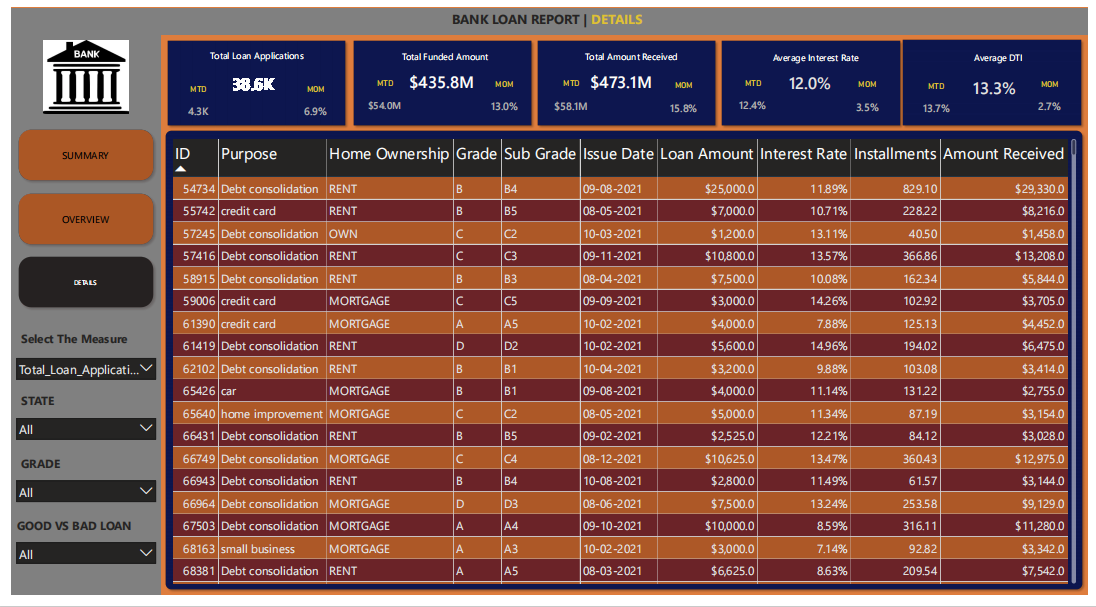

The dashboard page shown, as its layout file describes it:
{"tool":"powerbi","page":{"name":"DETAILS","canvas":[2200,1200],"ordinal":2},"visuals":[{"type":"shape","box":[0,28.6,304.8,1171.4],"z":0},{"type":"shape","box":[0,0,2200,55.2],"z":1000},{"type":"textbox","box":[896,0,458.7,54.7],"z":2000},{"type":"slicer","fields":{"Values":["financial_loan.Good vs Bad Loan"]},"box":[0,1083.8,304.8,81.9],"z":3000},{"type":"shape","box":[1814.7,57.9,380,189.7],"z":4000,"group":"g5"},{"type":"shape","box":[310.4,58.6,381,188.6],"z":4000,"group":"g2"},{"type":"shape","box":[691,58.6,380.7,189],"z":4000,"group":"g3"},{"type":"shape","box":[1067.8,58.6,380,189],"z":4000,"group":"g6"},{"type":"shape","box":[1444.5,58.6,380,189],"z":4000,"group":"g4"},{"type":"shape","box":[305.7,244,1891.6,954.6],"z":4000,"group":"g1"},{"type":"textbox","box":[5.7,1038.1,253.3,45.7],"z":4000},{"type":"cardVisual","fields":{"Data":["KPI'S.Total Funded Loan Amount"]},"box":[773.3,108.7,215.6,79.9],"z":5000,"group":"g3"},{"type":"cardVisual","fields":{"Data":["KPI'S.Total Amount Receieved"]},"box":[1139.5,108.7,215.6,81.9],"z":5000,"group":"g6"},{"type":"cardVisual","fields":{"Data":["KPI'S.Average Intrest Rate"]},"box":[1525.6,110.7,215.6,79.9],"z":5000,"group":"g4"},{"type":"cardVisual","fields":{"Data":["KPI'S.Total_Loan_Application"]},"box":[387.1,113,215.6,79.9],"z":5000,"group":"g2"},{"type":"cardVisual","fields":{"Data":["KPI'S.Average DTI"]},"box":[1902.3,122.2,215.4,79],"z":5000,"group":"g5"},{"type":"textbox","box":[15.2,910.5,108.6,47.6],"z":5000},{"type":"textbox","box":[395.5,79,214.7,42.9],"z":6000,"group":"g2"},{"type":"textbox","box":[782.4,80.8,210.5,39.3],"z":6000,"group":"g3"},{"type":"textbox","box":[1161.4,81,214.3,39.7],"z":6000,"group":"g6"},{"type":"textbox","box":[1538.1,82.2,213.3,41.8],"z":6000,"group":"g4"},{"type":"textbox","box":[1912,83.3,213.7,41.8],"z":6000,"group":"g5"},{"type":"textbox","box":[15.2,781,118.1,49.5],"z":6000},{"type":"cardVisual","title":"MTD","fields":{"Data":["KPI'S.MTD Loan Amount"]},"box":[697.5,144.7,133.8,87.8],"z":7000,"group":"g3"},{"type":"cardVisual","title":"MTD","fields":{"Data":["KPI'S.MTD"]},"box":[1077.6,144.7,135.8,91.8],"z":7000,"group":"g6"},{"type":"cardVisual","title":"MTD","fields":{"Data":["KPI'S.MTD Average interest Rate"]},"box":[1457.7,144.7,117.8,87.8],"z":7000,"group":"g4"},{"type":"cardVisual","title":"MTD","fields":{"Data":["KPI'S.MTD DTI"]},"box":[1831.3,149.9,119,89],"z":7000,"group":"g5"},{"type":"cardVisual","title":"MTD","fields":{"Data":["KPI'S.Month_to_date_Loanapplication"]},"box":[323.2,156.9,119.8,85.8],"z":7000,"group":"g2"},{"type":"slicer","fields":{"Values":["financial_loan.grade"]},"box":[0,958.1,304.8,80],"z":7000},{"type":"cardVisual","title":"MOM","fields":{"Data":["KPI'S.MOM Loan Amount"]},"box":[949,145.3,119,89],"z":8000,"group":"g3"},{"type":"cardVisual","title":"MOM","fields":{"Data":["KPI'S.MOM DTI"]},"box":[2063.3,145.9,119,89],"z":8000,"group":"g5"},{"type":"cardVisual","title":"MOM","fields":{"Data":["KPI'S.MOM Average Interst Rate"]},"box":[1691.3,146.7,117.8,89.8],"z":8000,"group":"g4"},{"type":"cardVisual","title":"MOM","fields":{"Data":["KPI'S.MOM Amount Received"]},"box":[1313.2,148.6,125,89],"z":8000,"group":"g6"},{"type":"cardVisual","title":"MOM","fields":{"Data":["KPI'S.MOM_Loan_Application"]},"box":[564.8,156.9,117.8,85.8],"z":8000,"group":"g2"},{"type":"slicer","fields":{"Values":["financial_loan.address_state"]},"box":[0,830.5,304.8,80],"z":8000},{"type":"slicer","fields":{"Values":["Select the Measure.Select the Measure"]},"box":[0,706.7,304.8,74.3],"z":9000},{"type":"textbox","box":[15.2,655.2,253.3,51.4],"z":10000},{"type":"group","id":"g1","title":"Group 1","box":[305.7,244,1891.6,954.6],"z":11000},{"type":"group","id":"g2","title":"Group 1","box":[310.4,58.6,381,188.6],"z":12000},{"type":"group","id":"g3","title":"Group 1","box":[691,58.6,380.7,187.4],"z":13000},{"type":"group","id":"g4","title":"Group 1","box":[1444.5,58.6,380.7,187.4],"z":14000},{"type":"group","id":"g5","title":"Group 1","box":[1814.7,57.9,380,189.7],"z":15000},{"type":"group","id":"g6","title":"Group 1","box":[1067.8,58.6,380.7,187.4],"z":16000},{"type":"tableEx","fields":{"Values":["financial_loan.id","financial_loan.purpose","financial_loan.home_ownership","financial_loan.grade","financial_loan.sub_grade","financial_loan.issue_date","KPI'S.Total Funded Loan Amount","financial_loan.int_rate","financial_loan.installment","KPI'S.Total Amount Receieved"]},"box":[324,263.5,1858.4,919.4],"z":17000},{"type":"pageNavigator","box":[5.7,241.9,291.4,382.9],"z":18000},{"type":"image","box":[0,66.7,304.8,150.5],"z":18001}]}

Visuals, with their boxes in screenshot pixels (x1, y1, x2, y2), scaled from the page's 2200x1200 canvas onto the 1096x607 screenshot:
shape: [0, 14, 152, 606]
shape: [0, 0, 1095, 28]
textbox: [446, 0, 675, 28]
slicer - financial_loan.Good vs Bad Loan: [0, 548, 152, 590]
shape: [904, 29, 1093, 125]
shape: [155, 30, 344, 125]
shape: [344, 30, 534, 125]
shape: [532, 30, 721, 125]
shape: [720, 30, 909, 125]
shape: [152, 123, 1095, 606]
textbox: [3, 525, 129, 548]
cardVisual - KPI'S.Total Funded Loan Amount: [385, 55, 493, 95]
cardVisual - KPI'S.Total Amount Receieved: [568, 55, 675, 96]
cardVisual - KPI'S.Average Intrest Rate: [760, 56, 867, 96]
cardVisual - KPI'S.Total_Loan_Application: [193, 57, 300, 98]
cardVisual - KPI'S.Average DTI: [948, 62, 1055, 102]
textbox: [8, 461, 62, 485]
textbox: [197, 40, 304, 62]
textbox: [390, 41, 495, 61]
textbox: [579, 41, 685, 61]
textbox: [766, 42, 873, 63]
textbox: [953, 42, 1059, 63]
textbox: [8, 395, 66, 420]
"MTD" cardVisual: [347, 73, 414, 118]
"MTD" cardVisual: [537, 73, 604, 120]
"MTD" cardVisual: [726, 73, 785, 118]
"MTD" cardVisual: [912, 76, 972, 121]
"MTD" cardVisual: [161, 79, 221, 123]
slicer - financial_loan.grade: [0, 485, 152, 525]
"MOM" cardVisual: [473, 73, 532, 119]
"MOM" cardVisual: [1028, 74, 1087, 119]
"MOM" cardVisual: [843, 74, 901, 120]
"MOM" cardVisual: [654, 75, 716, 120]
"MOM" cardVisual: [281, 79, 340, 123]
slicer - financial_loan.address_state: [0, 420, 152, 461]
slicer - Select the Measure.Select the Measure: [0, 357, 152, 395]
textbox: [8, 331, 134, 357]
"Group 1" group: [152, 123, 1095, 606]
"Group 1" group: [155, 30, 344, 125]
"Group 1" group: [344, 30, 534, 124]
"Group 1" group: [720, 30, 909, 124]
"Group 1" group: [904, 29, 1093, 125]
"Group 1" group: [532, 30, 722, 124]
tableEx - financial_loan.id x financial_loan.purpose: [161, 133, 1087, 598]
pageNavigator: [3, 122, 148, 316]
image: [0, 34, 152, 110]
